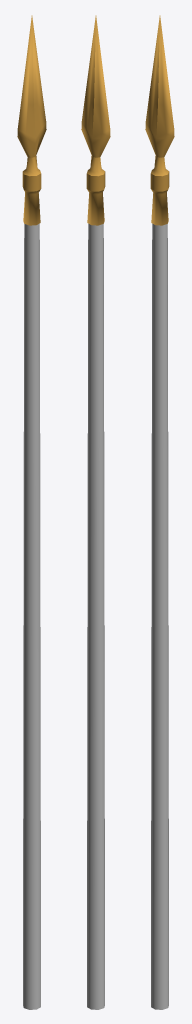
File: Spear.fbx
3 views of the same model, side by side, from view 1: azimuth 30°, elevation 25°; view 2: azimuth 150°, elevation 25°; view 3: azimuth 330°, elevation 25° (orthographic).
Parts seen in each view (by area): view 1: Древко, Наконечник; view 2: Древко, Наконечник; view 3: Древко, Наконечник.
Part boxes in pixels (x1,y1,x2,y2): Древко: (23, 223, 40, 1009); Наконечник: (17, 15, 46, 225); Древко: (87, 223, 104, 1009); Наконечник: (81, 15, 110, 225); Древко: (151, 223, 168, 1009); Наконечник: (145, 15, 174, 225).
Bounding box in the file's own units: 84.69 × 2766 × 47.99.
